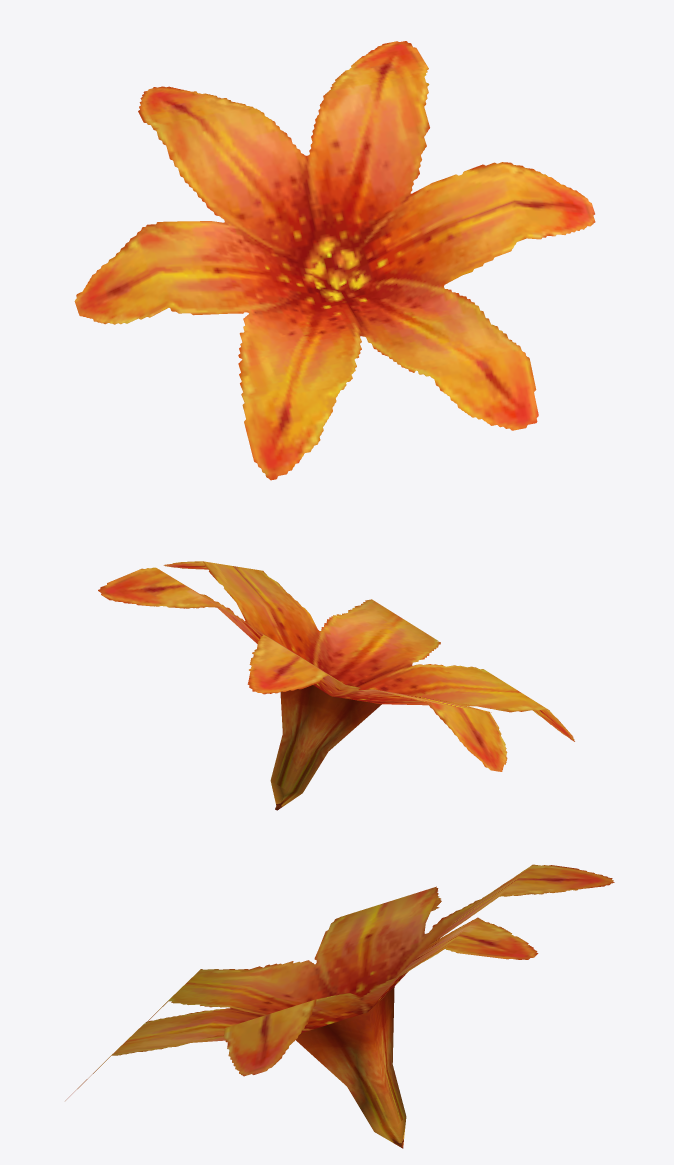
Rendered from environment_Tree_yellow flower_001_a.FBX.
3 views of the same model, one above another, from view 1: azimuth 30°, elevation 25°; view 2: azimuth 150°, elevation 25°; view 3: azimuth 270°, elevation 25° (orthographic). The views are drawn at different scales.
Parts seen in each view (by area): view 1: environment_Tree_yellow flower_001_a; view 2: environment_Tree_yellow flower_001_a; view 3: environment_Tree_yellow flower_001_a.
Boxes of the visible parts, <box> form: environment_Tree_yellow flower_001_a: <box>74,41,595,480</box>; environment_Tree_yellow flower_001_a: <box>98,561,574,810</box>; environment_Tree_yellow flower_001_a: <box>65,864,614,1148</box>.
Bounding box in the file's own units: 114 × 52.96 × 116.
Materials: 1 (1 with a texture image).
